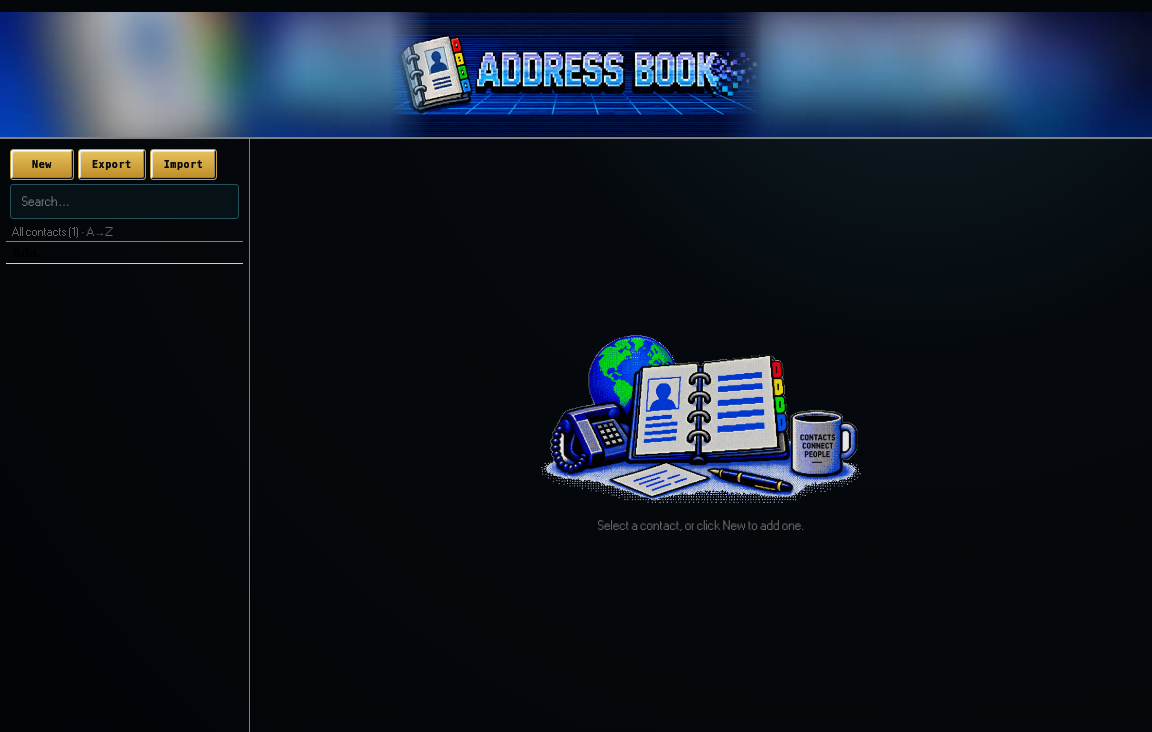
common contacts › cannot link until the contact exists, and says why
The width and height of the screenshot is (1152, 732).
Click the button "New" at (42, 164), box [10,149,74,180]
(page scrolled)
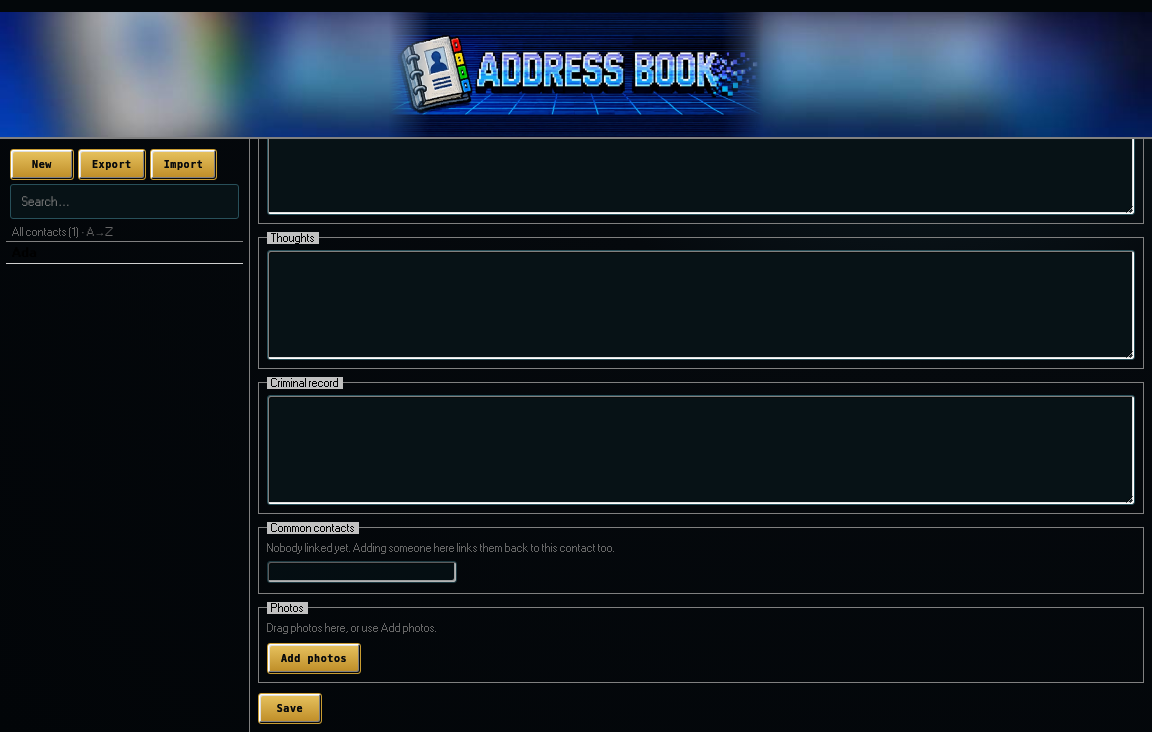
Check: the dropdown named "Add a common contact" is disabled, box [267,561,457,583]
